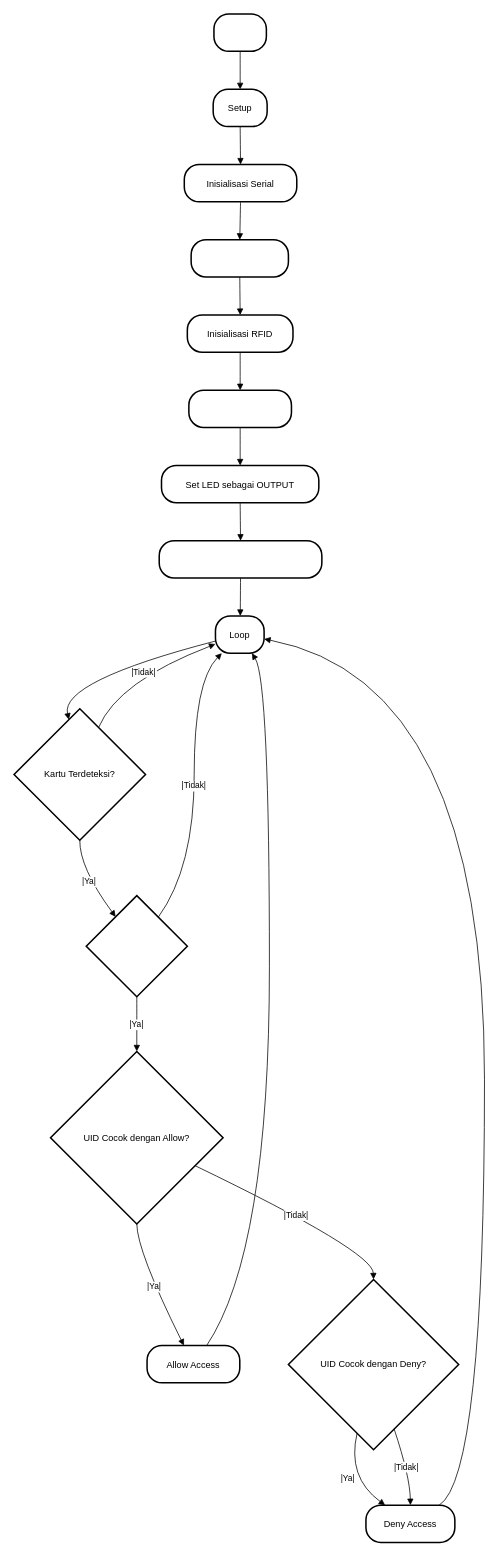
This 498x1556 diagram has some shape labels left out. Each missing label, with the centre of its shape:
Baca Kartu?: pixel 136 946
Inisialisasi LCD: pixel 240 408
Inisialisasi SPI: pixel 239 258
Mulai: pixel 240 32
Tampilkan Scan your card: pixel 240 559
